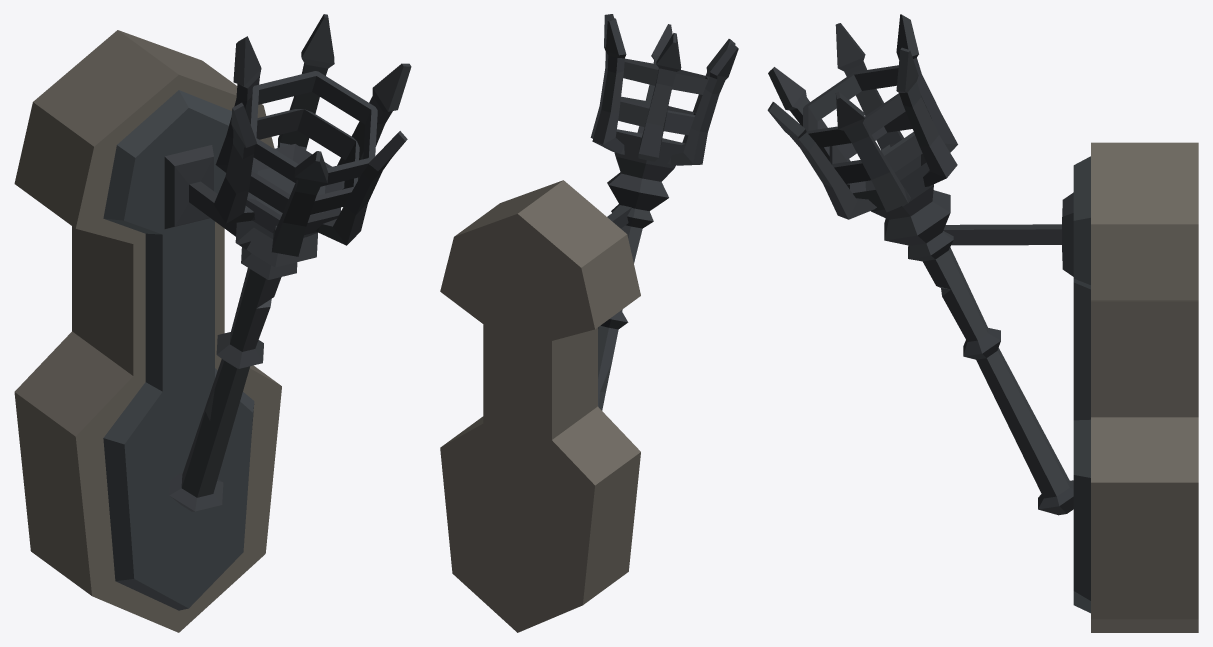
Rendered from SM_Gen_Prop_Light_Wall_01.glb.
3 views of the same model, side by side, from view 1: azimuth 30°, elevation 25°; view 2: azimuth 150°, elevation 25°; view 3: azimuth 270°, elevation 25° (orthographic). The views are drawn at different scales.
Parts seen in each view (by area): view 1: SM_Gen_Prop_Light_Wall_01; view 2: SM_Gen_Prop_Light_Wall_01; view 3: SM_Gen_Prop_Light_Wall_01.
Part boxes in pixels (x1,y1,x2,y2): SM_Gen_Prop_Light_Wall_01: (14, 14, 411, 632); SM_Gen_Prop_Light_Wall_01: (440, 14, 738, 632); SM_Gen_Prop_Light_Wall_01: (767, 14, 1198, 632).
Size of the model in its own units: 0.3269 by 1.04 by 0.6732.
Materials: 1 (1 with a texture image).
